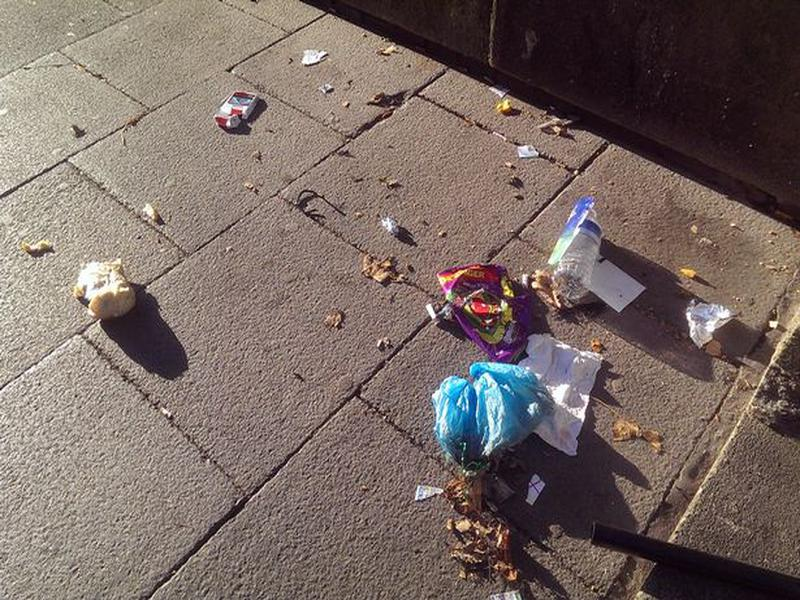bottle: (546, 186, 607, 307)
paper: (427, 253, 529, 362), (525, 334, 608, 462), (669, 293, 750, 354)
